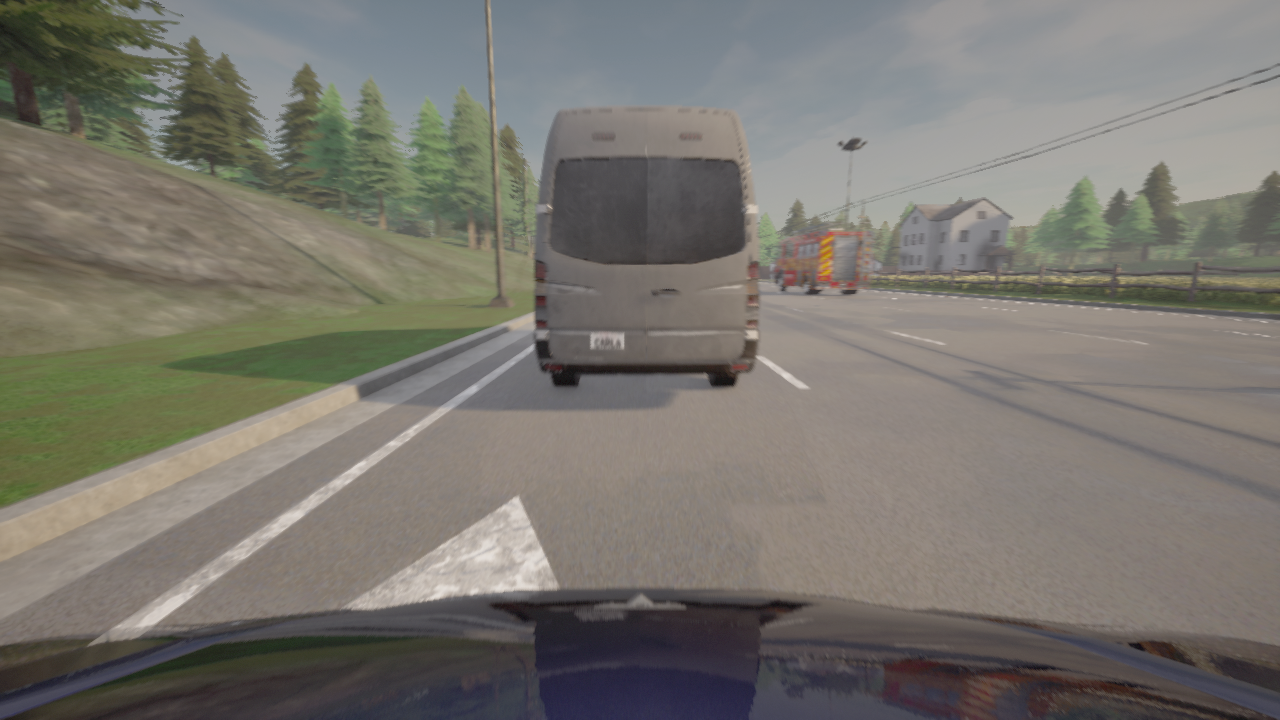cyclist: (0, 588, 1279, 719), (533, 106, 759, 386), (773, 221, 873, 295)
